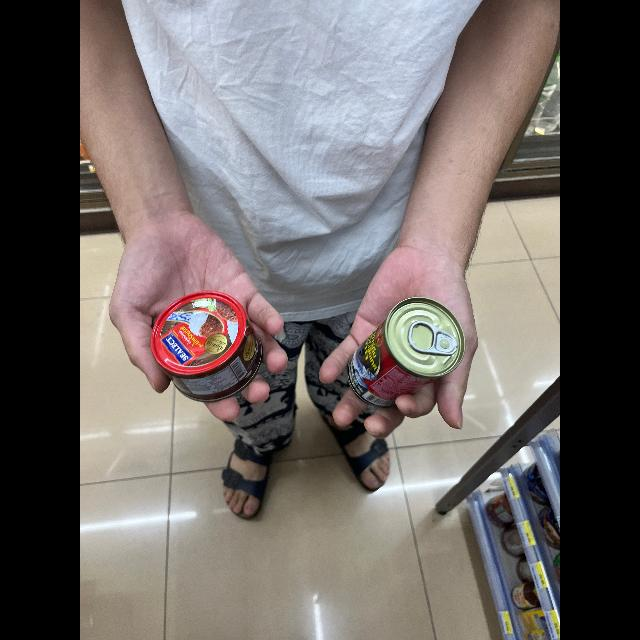can: (332, 297, 472, 401), (144, 284, 266, 394)
